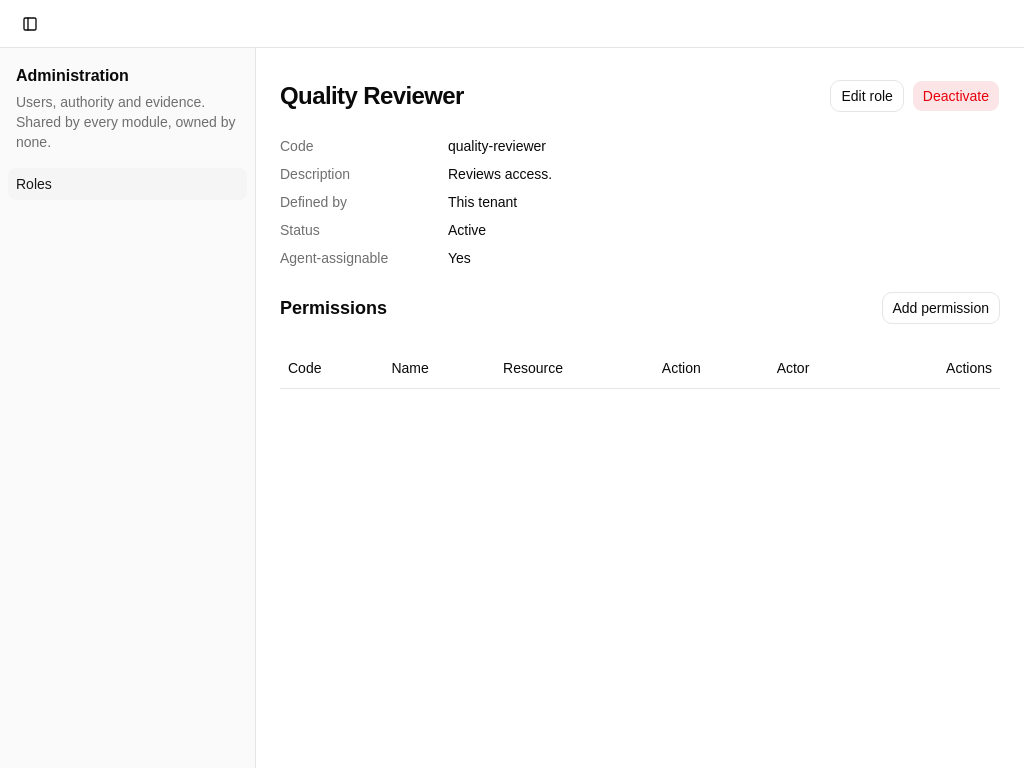
Test: the reason › is required, and nothing is sent without it
This screenshot has width=1024, height=768.
expect the table named "Permissions" is shown: met, box [280,348,1000,388]
Click the button "Deactivate": (956, 96) [912,80,1000,112]
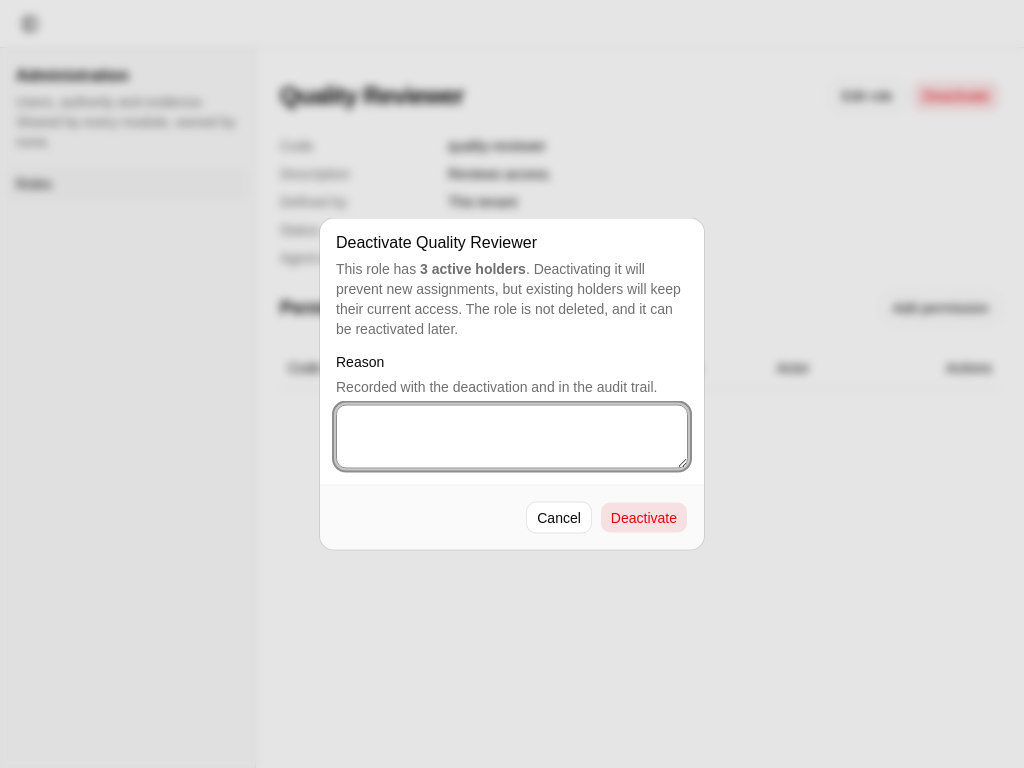
Click the button "Deactivate": (644, 518) [600,502,688,534]
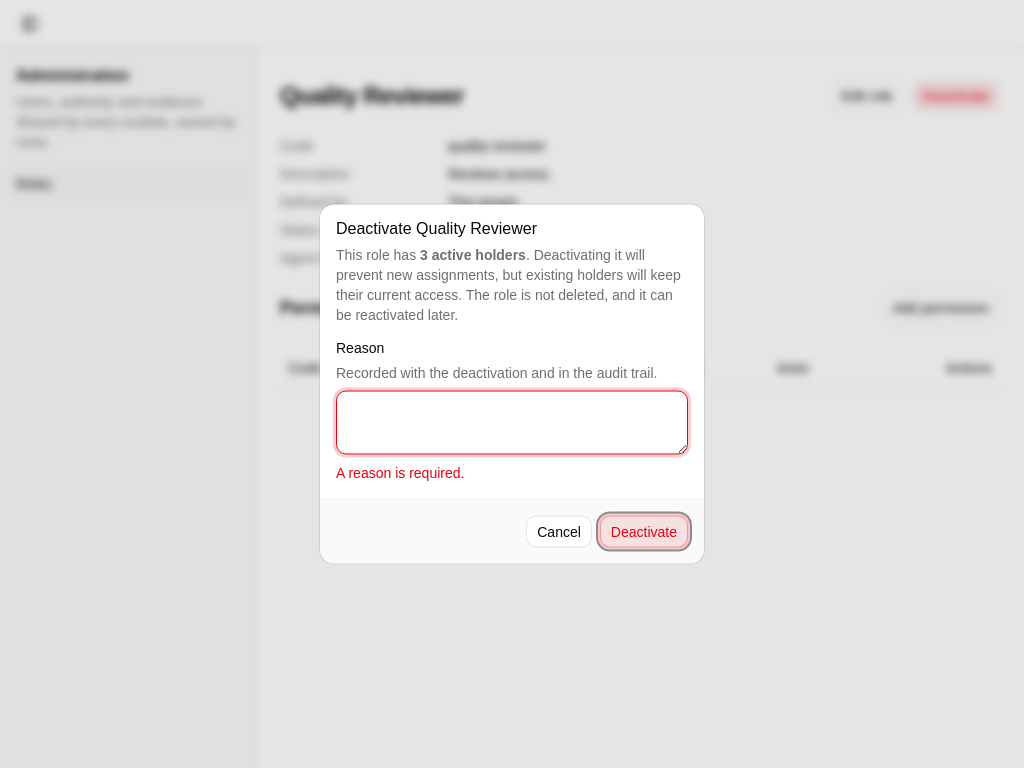
expect the message reads "A reason is required.": met, box [336,464,464,480]
